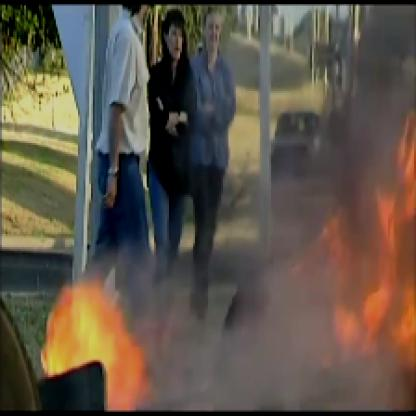Fire: (37, 113, 414, 414)
